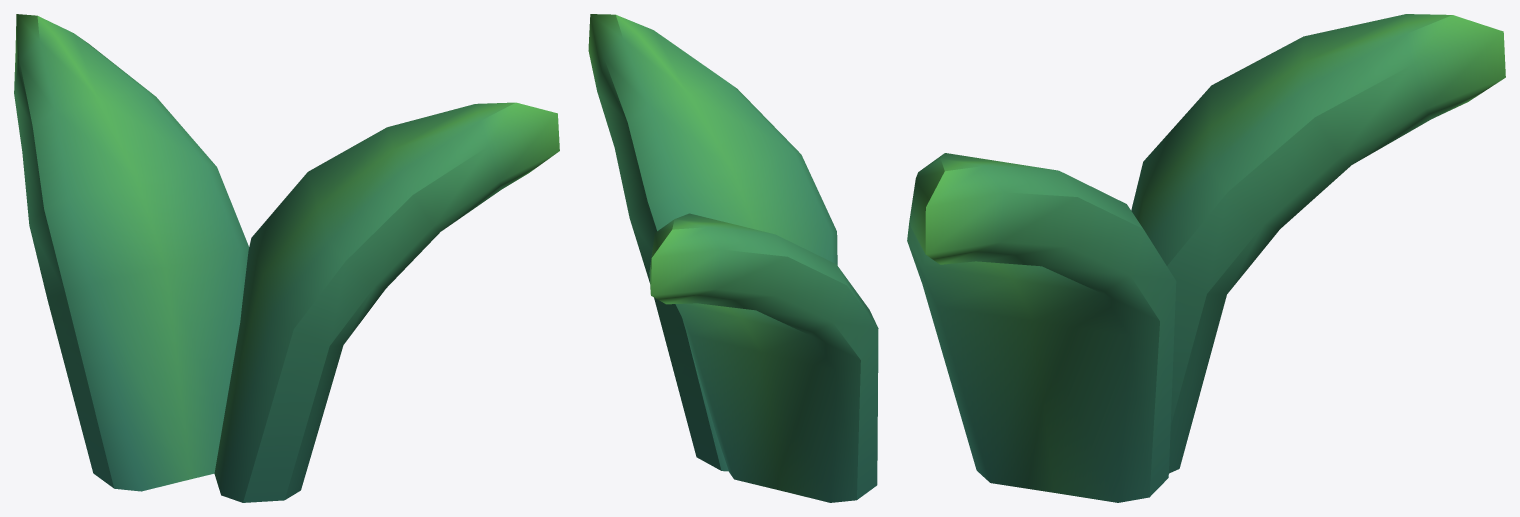
File: grass_B.fbx
3 views of the same model, side by side, from view 1: azimuth 30°, elevation 25°; view 2: azimuth 150°, elevation 25°; view 3: azimuth 270°, elevation 25° (orthographic). The views are drawn at different scales.
Parts seen in each view (by area): view 1: grass_B; view 2: grass_B; view 3: grass_B.
Boxes of the visible parts, x1,y1,x2,y2 form: grass_B: (14,14,559,502); grass_B: (588,14,878,502); grass_B: (907,14,1505,502).
Size of the model in its own units: 0.4744 by 0.4054 by 0.5138.
